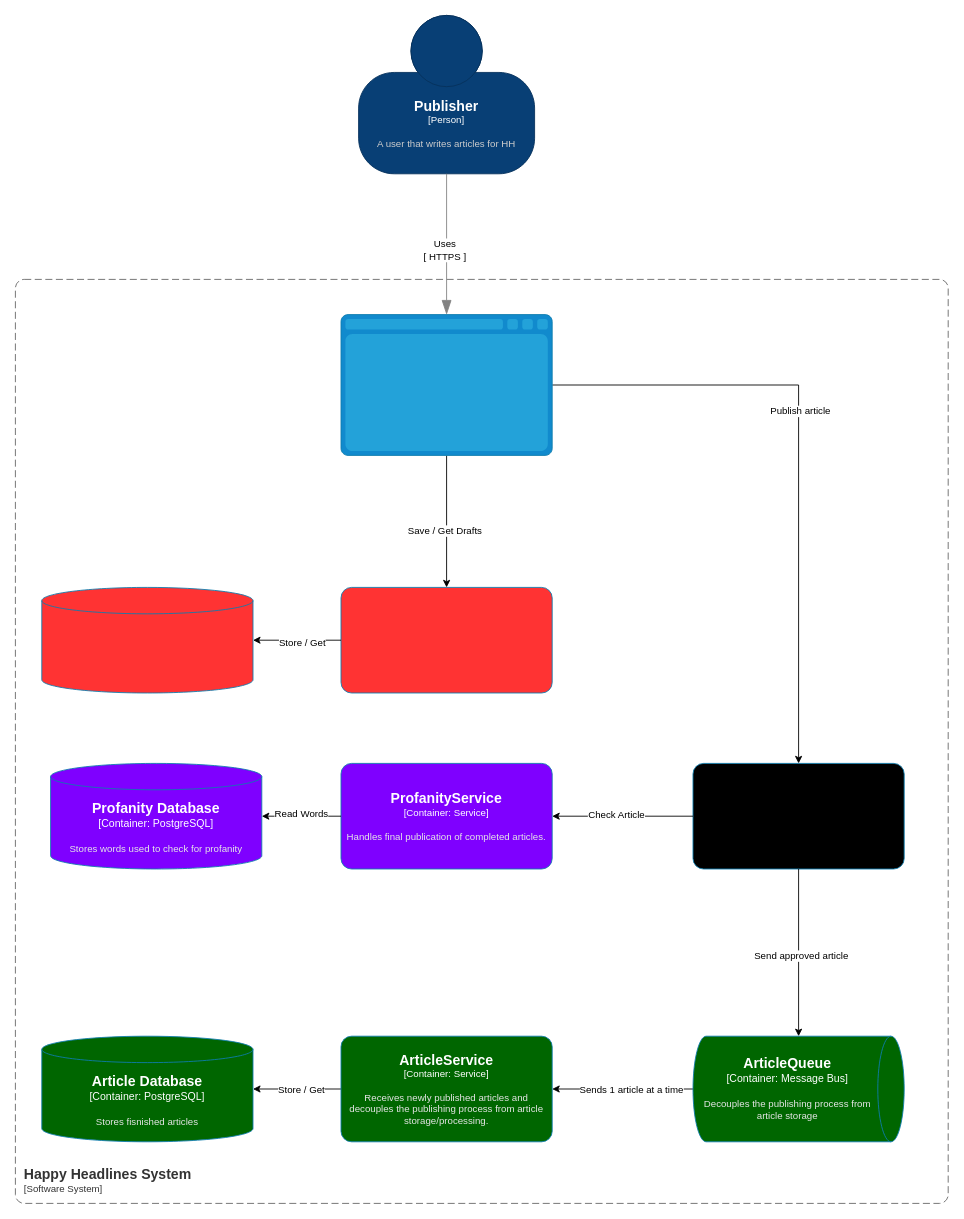
The diagram is 964 pixels wide and 1219 high, and some of its shapes have lost their labels. Each missing label, with the centre of its shape:
Draft Database [Container: PostgreSQL] Stores drafts of articles: pixel 147 640
DraftService [Container: Service] Handles saving and retrieving article drafts.: pixel 446 640
PublisherService [Container: Service] Handles publication of articles: pixel 798 816
Web Application [Container: HTML, CSS] The publisher's entry point: pixel 446 384
